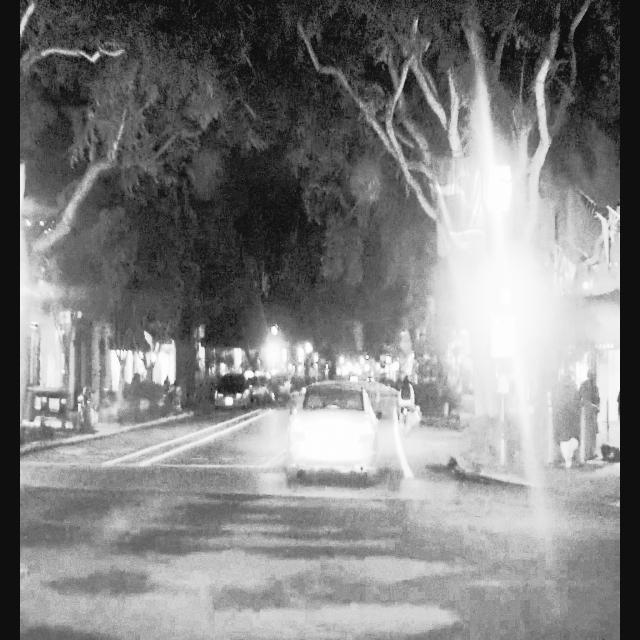Car: (284, 375, 382, 485)
Light: (499, 285, 511, 308)
Tree: (445, 0, 534, 459)
